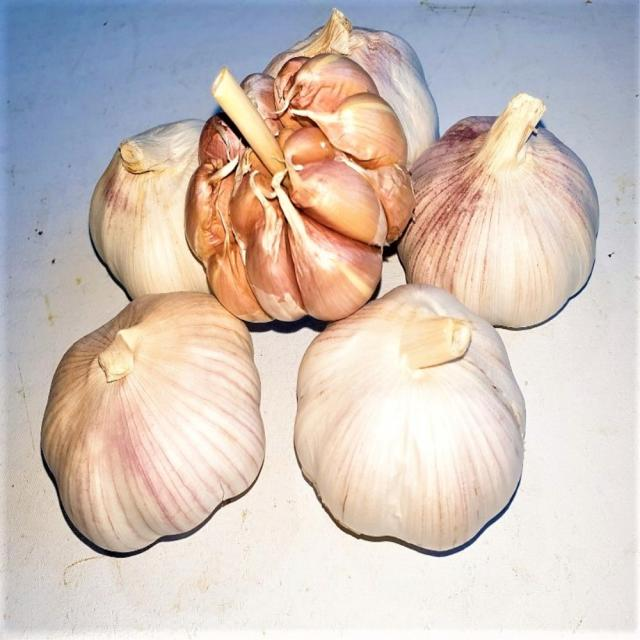garlic: (290, 282, 529, 564), (42, 289, 269, 560), (186, 58, 416, 325), (390, 98, 605, 329), (86, 116, 251, 302)
